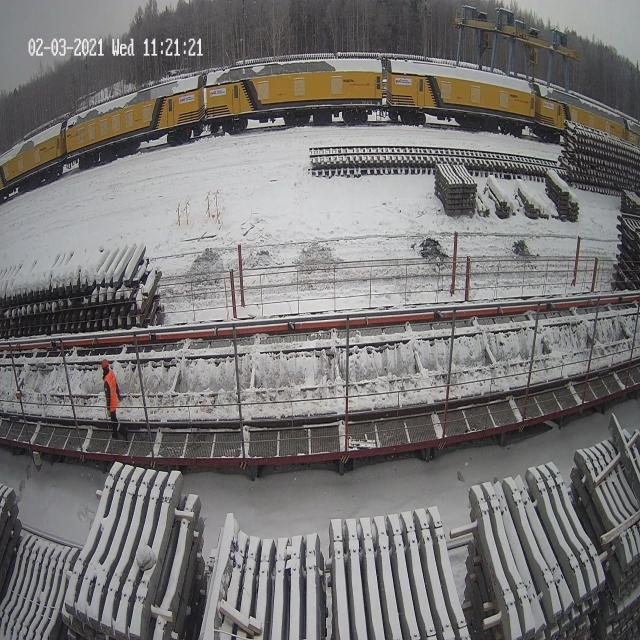Helmet: (102, 359, 108, 369)
Person: (101, 358, 121, 438)
